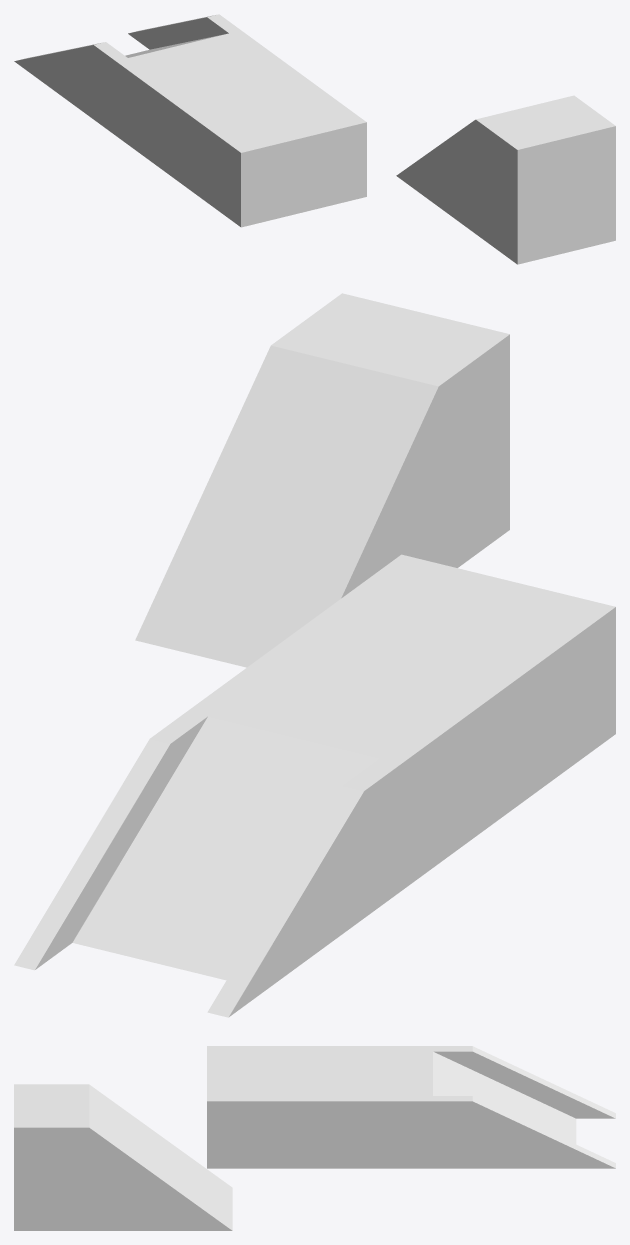
File: Start.fbx
The picture shows the model from 3 angles, top to bottom: view 1: azimuth 30°, elevation 25°; view 2: azimuth 150°, elevation 25°; view 3: azimuth 270°, elevation 25°; orthographic projection. The views are drawn at different scales.
Visible parts, largest first — view 1: Start; view 2: Start; view 3: Start.
Boxes of the visible parts, x1,y1,x2,y2 form: Start: (14,14,615,264); Start: (14,293,615,1017); Start: (14,1046,615,1230).
Bounding box in the file's own units: 104 × 42.43 × 224.
Materials: 1 (1 with a texture image).
